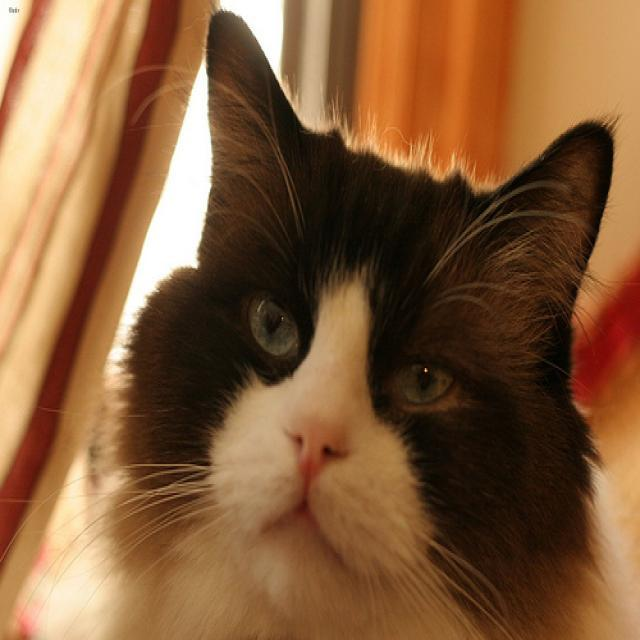Ragdoll: (197, 11, 612, 614)
